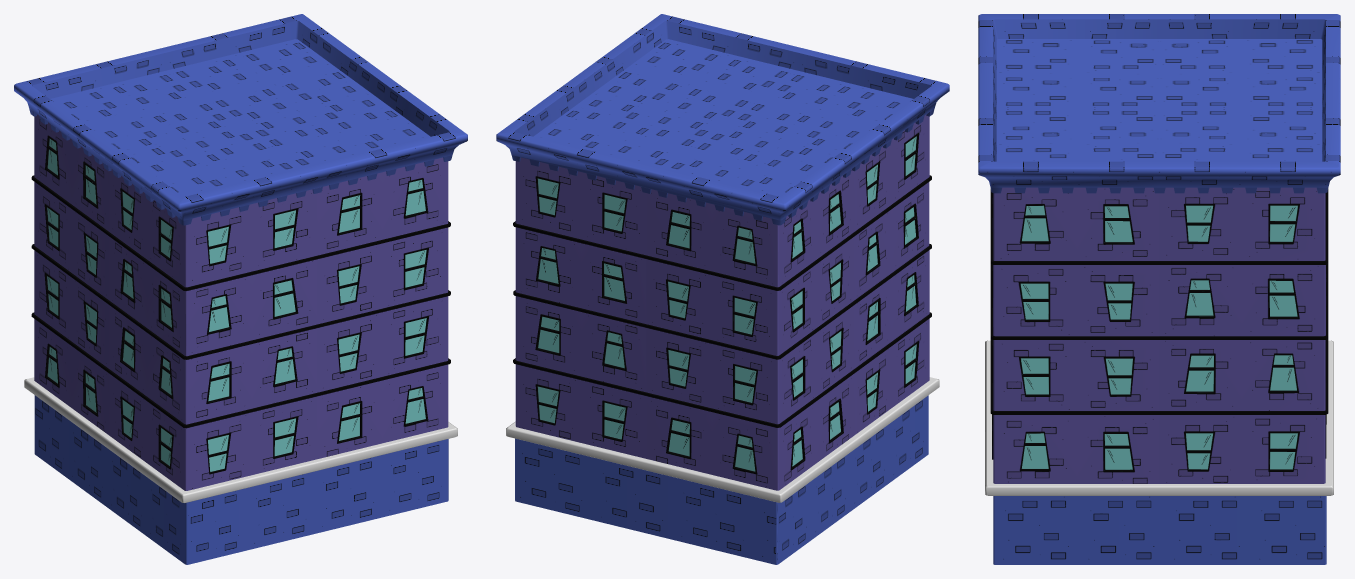
Rendered from 4x4w_Building.fbx.
3 views of the same model, side by side, from view 1: azimuth 30°, elevation 25°; view 2: azimuth 150°, elevation 25°; view 3: azimuth 270°, elevation 25° (orthographic). The views are drawn at different scales.
Parts seen in each view (by area): view 1: 2x006, roof006, ground floor004, bar004; view 2: 2x006, roof006, ground floor004, bar004; view 3: 2x006, roof006, ground floor004, bar004.
Boxes of the visible parts, x1=… form: 2x006: x1=31, y1=114, x2=450, y2=490; roof006: x1=14, y1=14, x2=467, y2=225; ground floor004: x1=34, y1=395, x2=448, y2=564; bar004: x1=24, y1=377, x2=457, y2=502; 2x006: x1=513, y1=114, x2=931, y2=490; roof006: x1=496, y1=14, x2=949, y2=225; ground floor004: x1=515, y1=395, x2=928, y2=564; bar004: x1=506, y1=377, x2=939, y2=502; 2x006: x1=990, y1=187, x2=1328, y2=483; roof006: x1=978, y1=14, x2=1340, y2=193; ground floor004: x1=993, y1=496, x2=1326, y2=564; bar004: x1=985, y1=340, x2=1333, y2=495.
Bounding box in the file's own units: 10.9 × 13.26 × 10.78.
